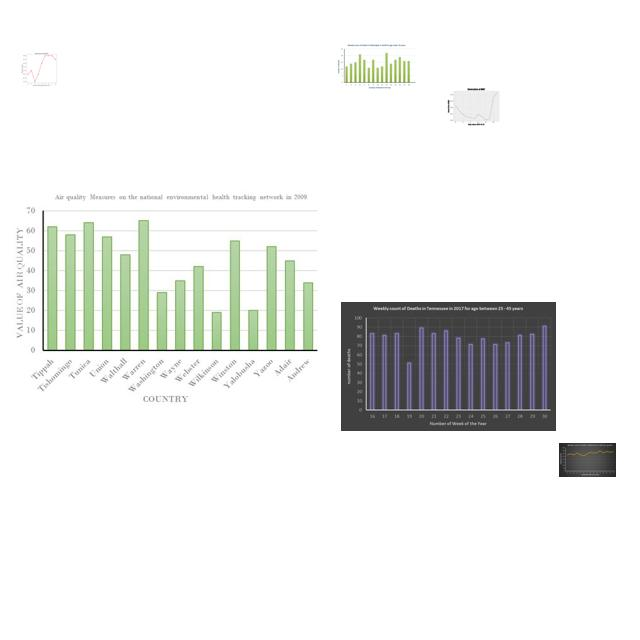Graph: (8, 191, 325, 407), (341, 302, 556, 431), (336, 43, 417, 91), (446, 84, 505, 128), (14, 50, 68, 87), (559, 443, 616, 477)
